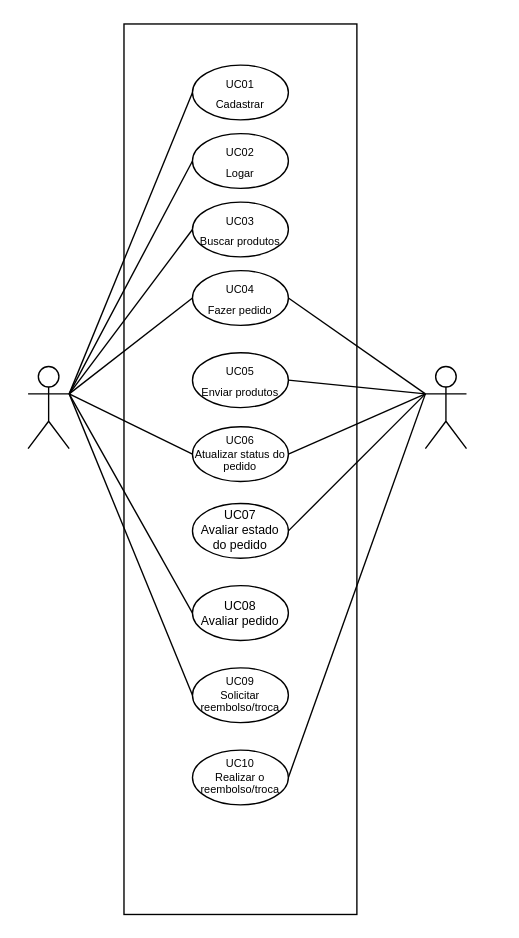
The diagram is 519 pixels wide and 938 high, and some of its shapes have lost their labels. Each missing label, with the box of its shape:
Cliente: (27, 365, 69, 449)
LIVRO FACIL: (424, 365, 466, 449)
